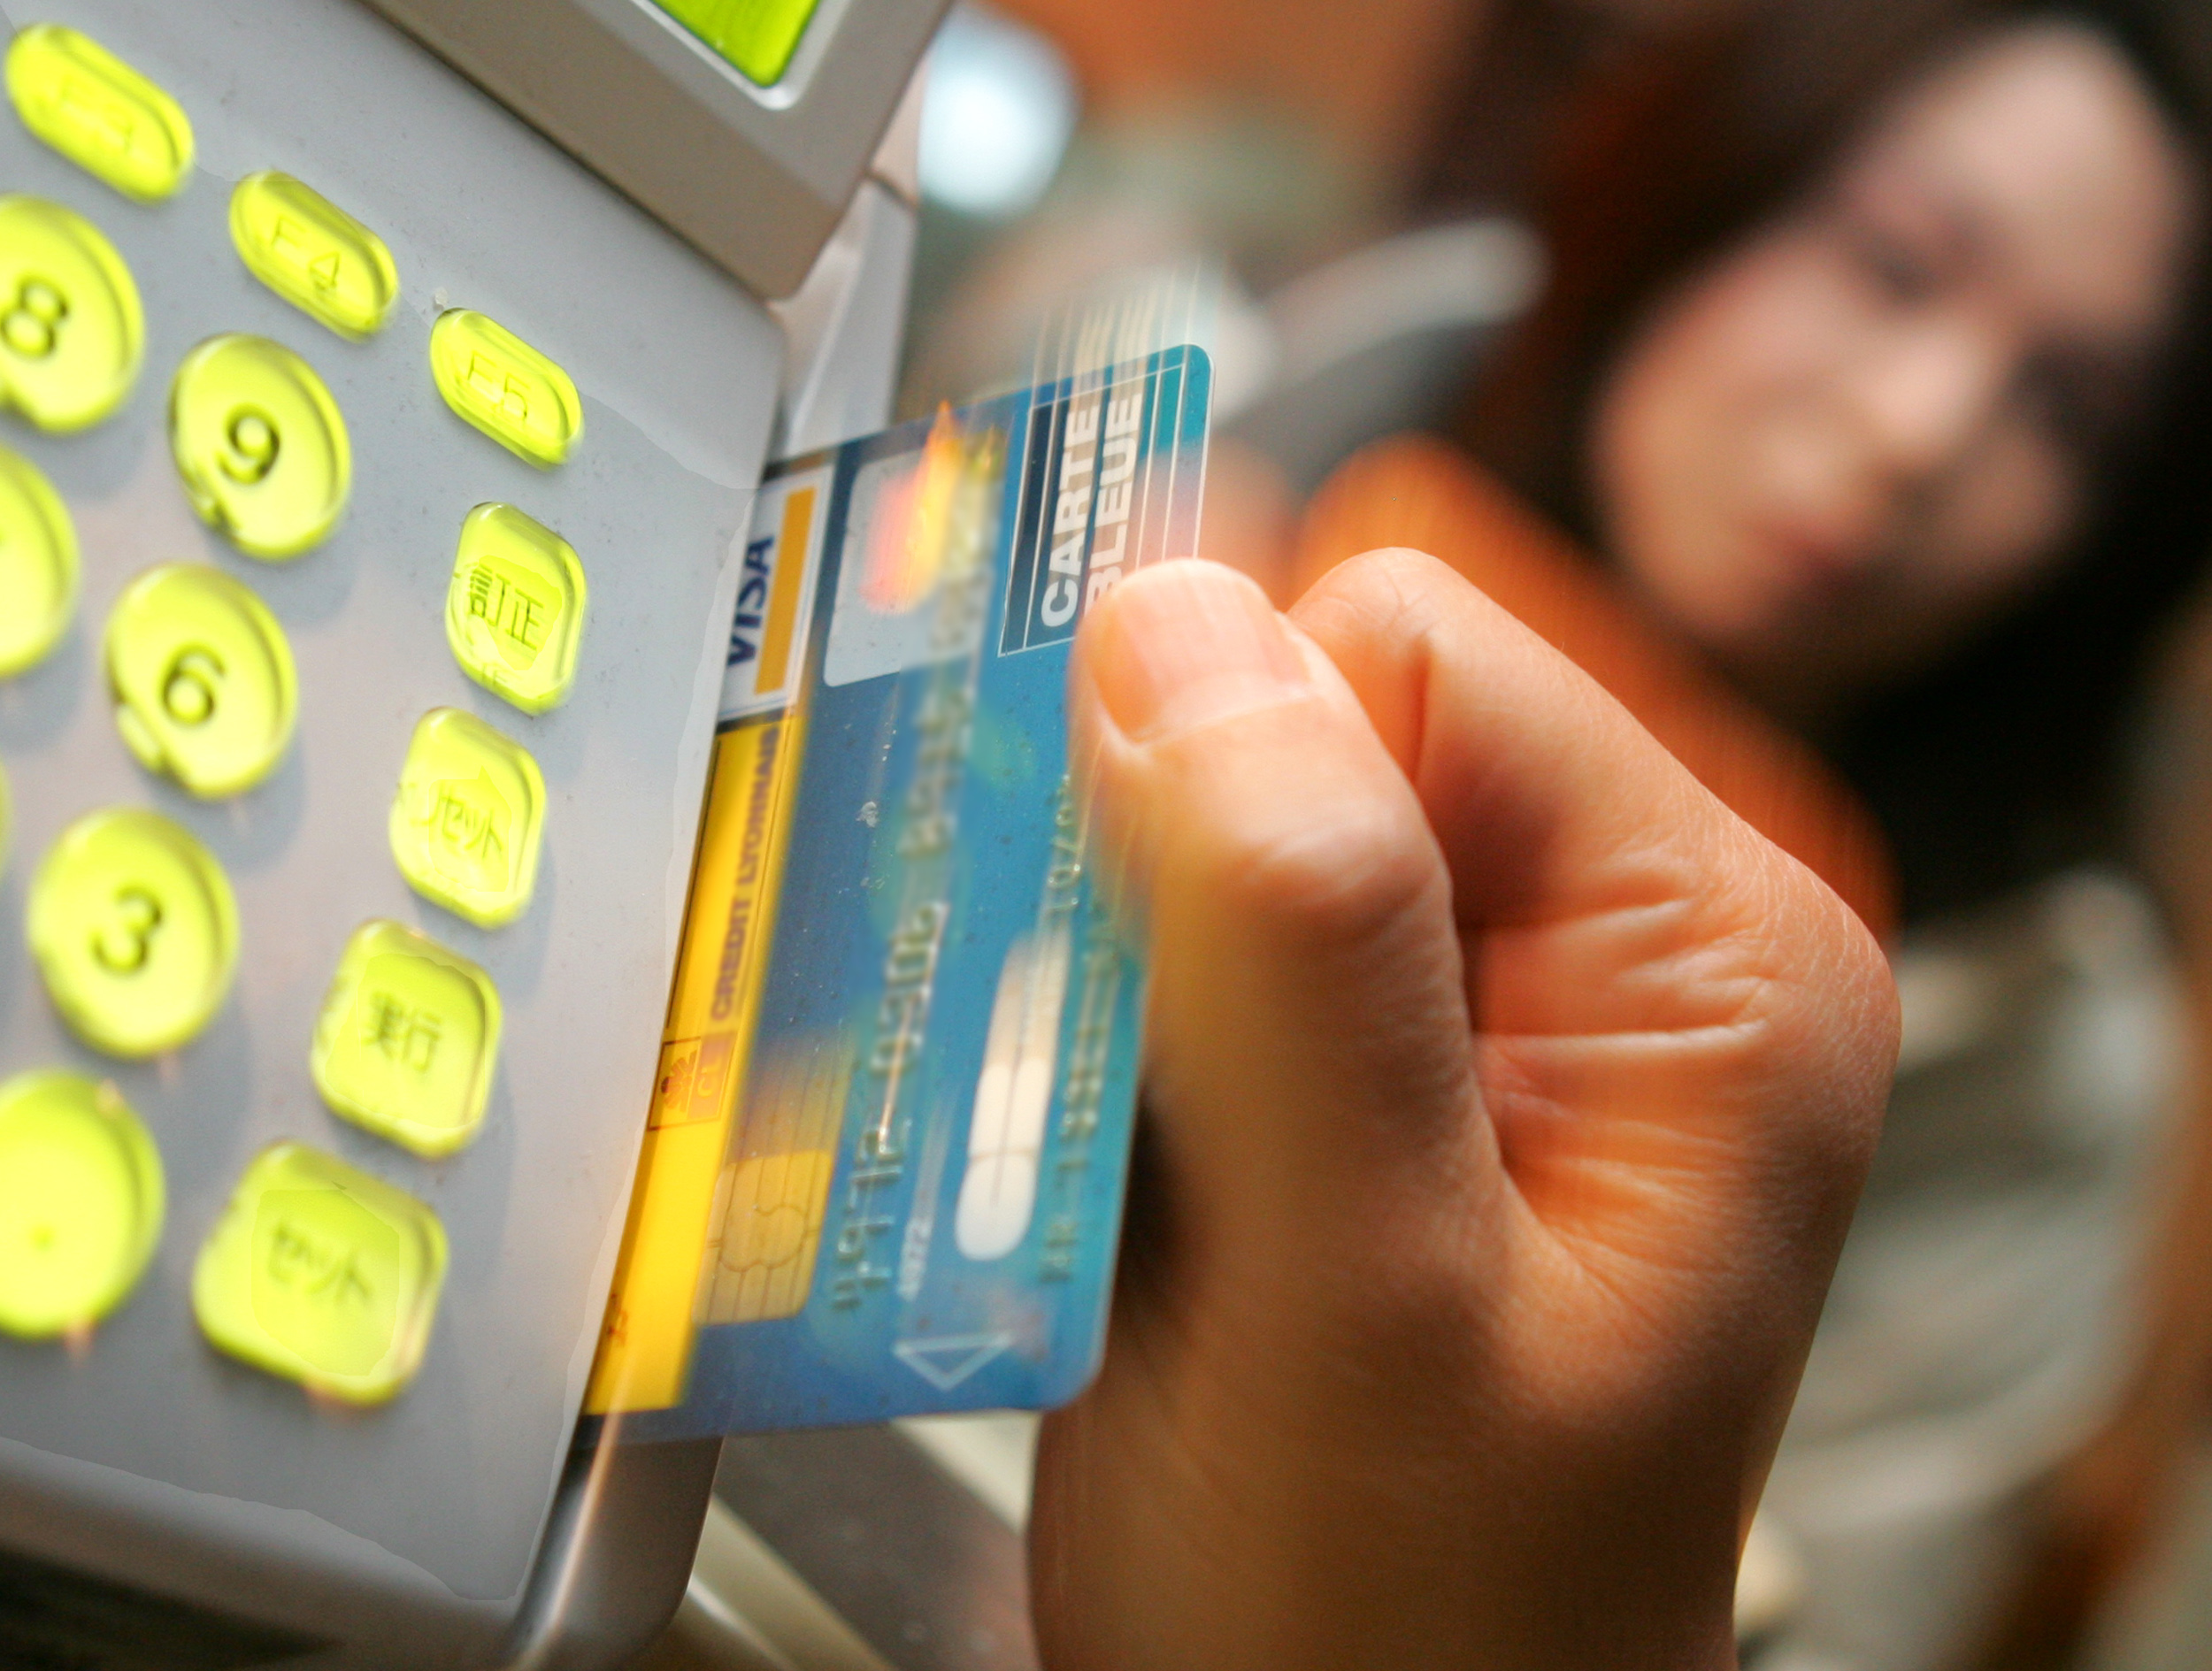card: (574, 325, 1225, 1445)
